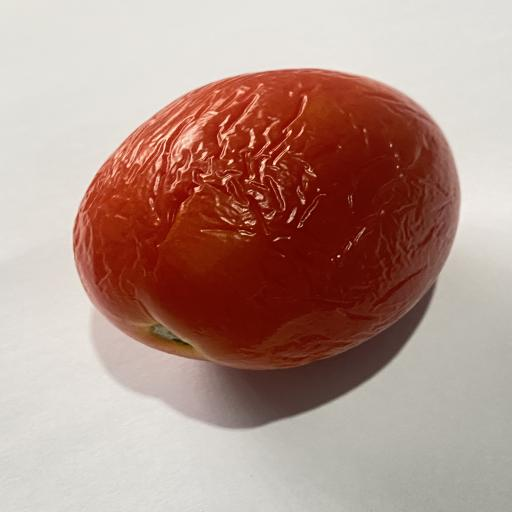spoiled: (74, 69, 460, 370)
